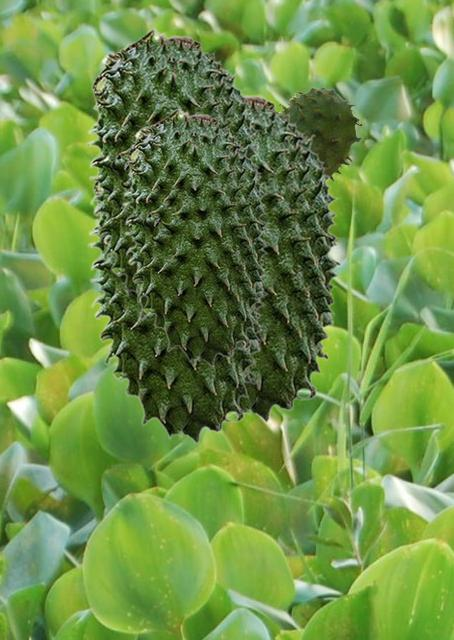guyabano: (86, 26, 263, 333), (87, 182, 268, 443), (122, 106, 270, 366), (233, 92, 342, 422), (277, 87, 361, 183)
